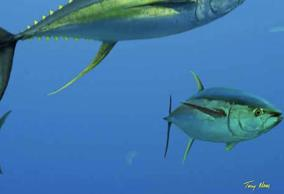Scombridae -Tunas-: (0, 0, 260, 108), (159, 67, 284, 164)
